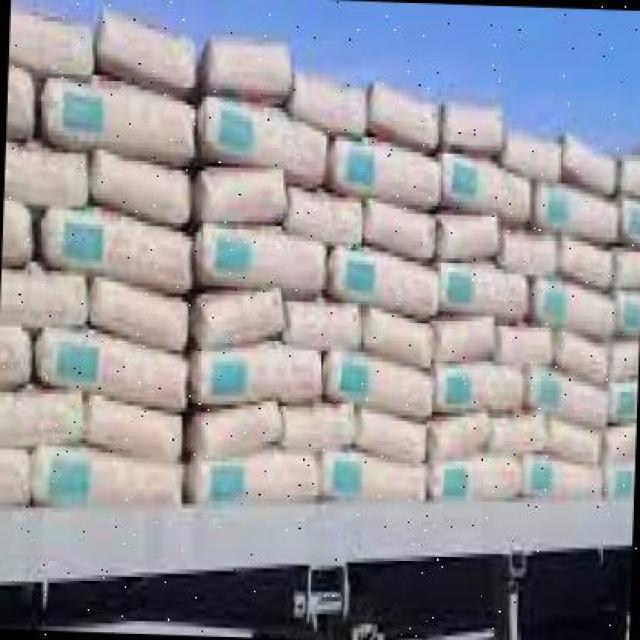gunny_bag: (43, 202, 195, 301), (33, 332, 189, 414), (46, 78, 196, 160), (196, 100, 328, 183), (97, 1, 199, 92), (25, 445, 183, 501), (333, 126, 443, 201), (326, 243, 437, 316), (188, 348, 322, 408), (197, 226, 327, 287), (91, 151, 194, 226), (325, 347, 433, 413), (81, 394, 188, 457), (186, 451, 320, 500), (533, 176, 620, 251), (4, 132, 90, 207), (435, 256, 532, 322), (87, 284, 191, 344), (444, 154, 533, 223), (189, 286, 287, 346), (363, 193, 439, 267), (201, 41, 290, 103), (187, 397, 282, 454), (287, 68, 374, 128), (288, 178, 364, 246), (196, 164, 286, 220), (321, 451, 425, 499), (532, 278, 616, 337), (430, 452, 528, 501), (0, 390, 84, 446), (526, 376, 608, 430), (361, 308, 430, 371), (552, 321, 614, 388), (433, 367, 525, 411), (373, 84, 439, 145), (351, 408, 427, 460), (442, 95, 504, 158), (518, 455, 606, 498), (435, 211, 505, 264), (562, 134, 618, 197), (506, 125, 562, 185), (490, 317, 550, 373), (554, 238, 616, 291), (497, 227, 557, 280), (288, 300, 361, 343), (428, 410, 492, 455), (282, 402, 352, 443), (436, 313, 492, 364), (541, 417, 607, 459), (492, 412, 546, 454), (2, 197, 37, 259), (0, 444, 31, 503), (605, 389, 638, 432), (606, 339, 640, 379), (612, 244, 640, 291), (605, 458, 635, 500), (602, 426, 636, 463), (620, 195, 640, 246), (619, 294, 640, 336), (620, 153, 640, 197)
